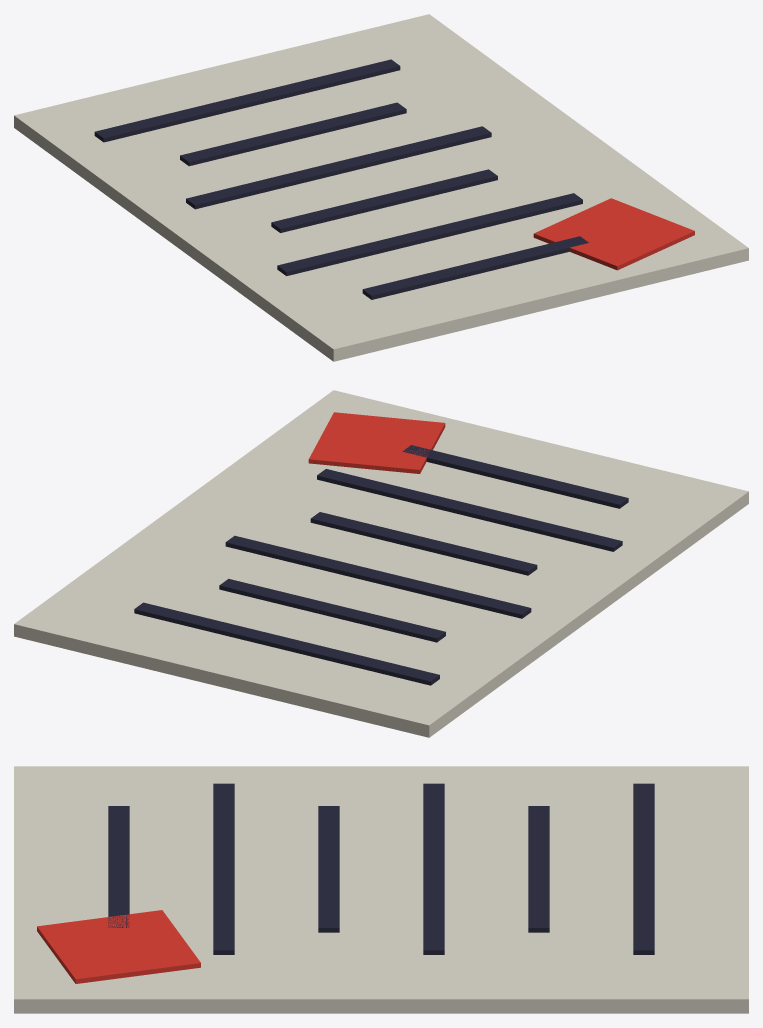
File: bowl_bet_list.glb
3 views of the same model, one above another, from view 1: azimuth 30°, elevation 25°; view 2: azimuth 150°, elevation 25°; view 3: azimuth 270°, elevation 25° (orthographic). The views are drawn at different scales.
Parts seen in each view (by area): view 1: paper_bet_paper, lines_bet_ink (×6), stamp_bet_stamp; view 2: paper_bet_paper, lines_bet_ink (×6), stamp_bet_stamp; view 3: paper_bet_paper, lines_bet_ink (×6), stamp_bet_stamp.
Part boxes in pixels (box(x1,y1,x2,y2)): paper_bet_paper: box(14, 14, 748, 361); lines_bet_ink (×6): box(94, 59, 588, 299); stamp_bet_stamp: box(533, 198, 694, 270); paper_bet_paper: box(14, 390, 748, 737); lines_bet_ink (×6): box(134, 445, 628, 685); stamp_bet_stamp: box(308, 412, 445, 473); paper_bet_paper: box(14, 766, 748, 1013); lines_bet_ink (×6): box(108, 783, 654, 954); stamp_bet_stamp: box(37, 910, 200, 983).
Size of the model in its own units: 0.21 by 0.008 by 0.28.
